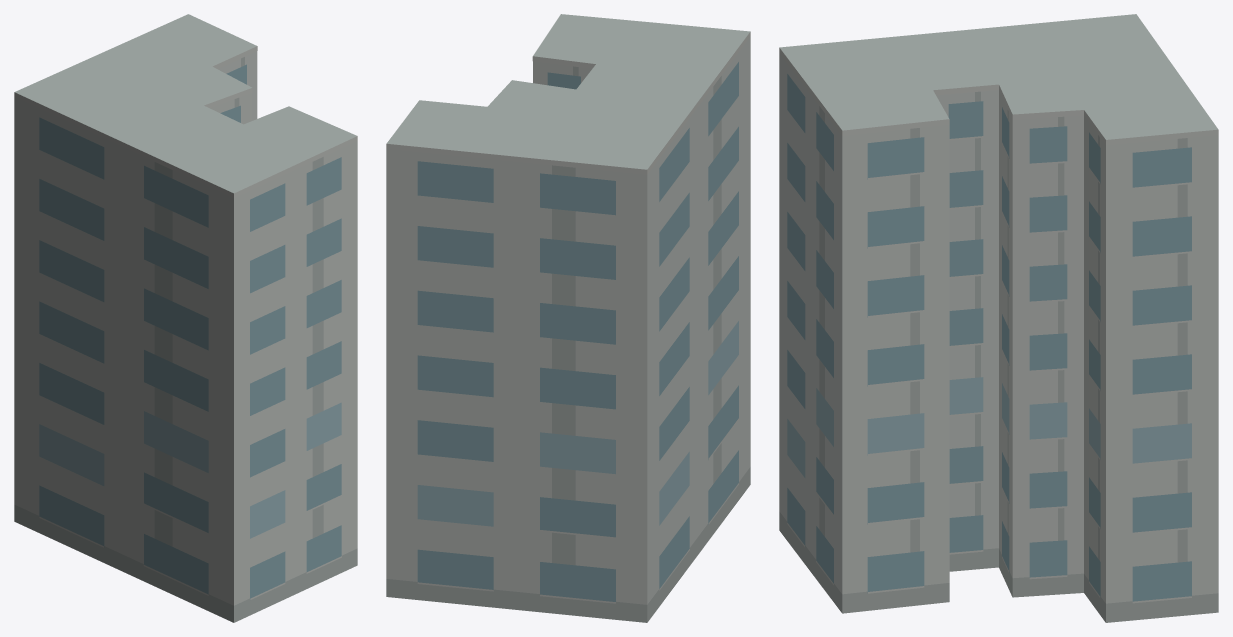
Rendered from survey-upis-32644964.glb.
The picture shows the model from 3 angles, left to right: view 1: azimuth 30°, elevation 25°; view 2: azimuth 150°, elevation 25°; view 3: azimuth 270°, elevation 25°; orthographic projection. The views are drawn at different scales.
Parts seen in each view (by area): view 1: survey-upis-32644964.tmp; view 2: survey-upis-32644964.tmp; view 3: survey-upis-32644964.tmp.
Part boxes in pixels (<box>): survey-upis-32644964.tmp: <box>14,14,357,622</box>; survey-upis-32644964.tmp: <box>386,14,750,622</box>; survey-upis-32644964.tmp: <box>779,14,1218,622</box>.
Size of the model in its own units: 11.95 by 21.35 by 17.61.
